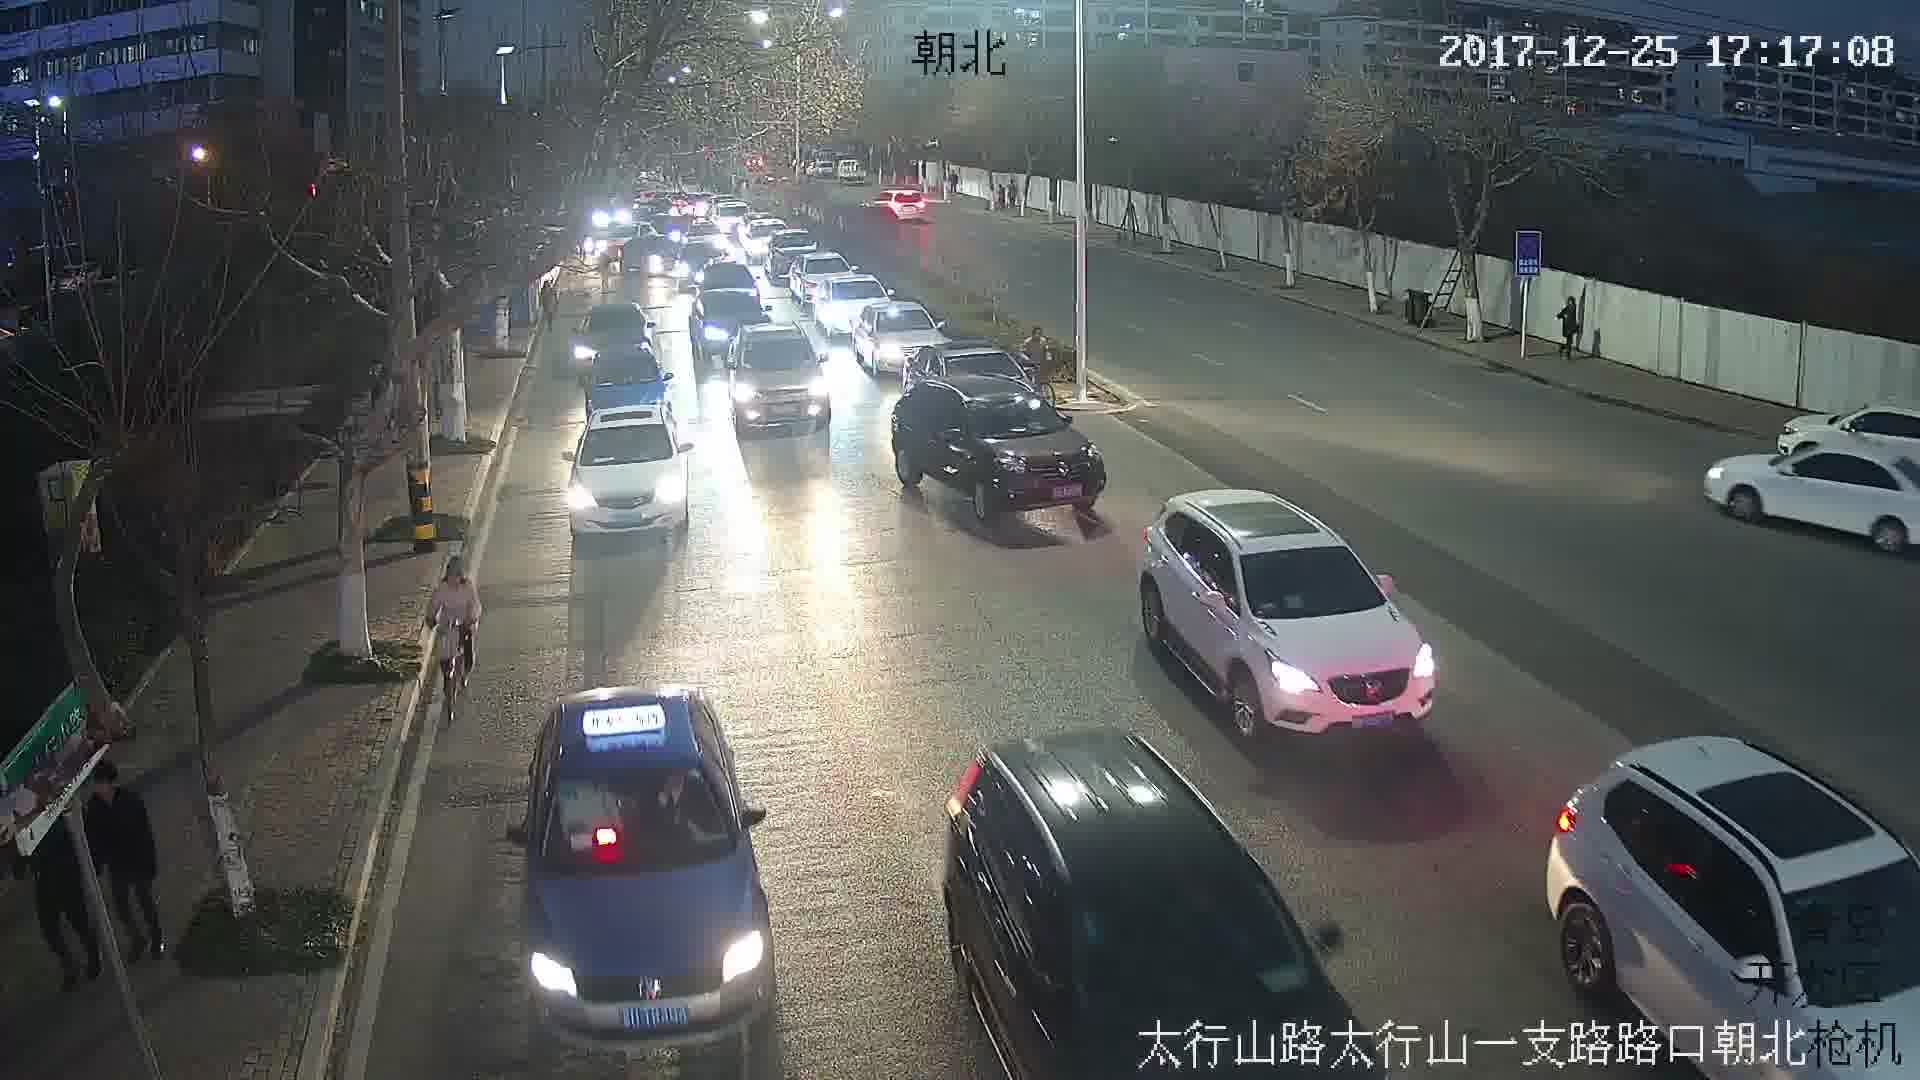car: (505, 688, 780, 1042), (1141, 492, 1442, 734), (881, 381, 1112, 517), (562, 410, 696, 544), (728, 320, 835, 435), (574, 302, 666, 381)
person: (84, 766, 185, 959), (428, 556, 480, 692), (1557, 296, 1578, 357)
